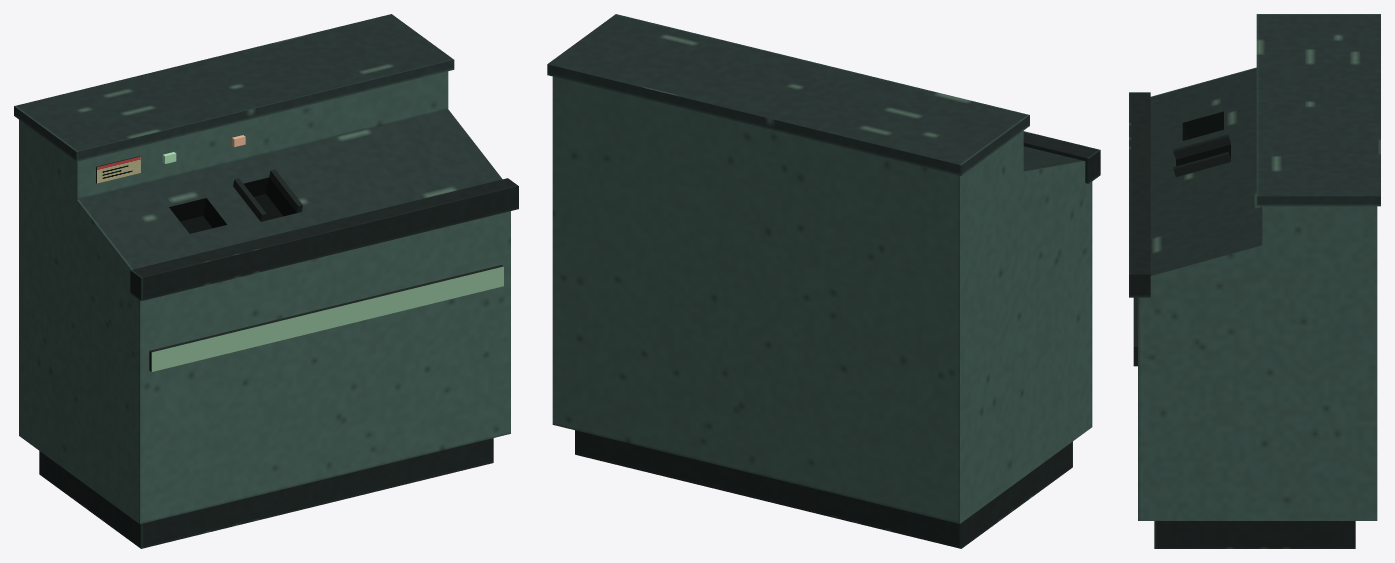
The model's file is SM_LabPanel_Console_Analyzer_120x70x110.fbx.
3 views of the same model, side by side, from view 1: azimuth 30°, elevation 25°; view 2: azimuth 150°, elevation 25°; view 3: azimuth 270°, elevation 25° (orthographic). The views are drawn at different scales.
Visible parts, largest first — view 1: SM_LabPanel_Console_Analyzer_120x70x110.001; view 2: SM_LabPanel_Console_Analyzer_120x70x110.001; view 3: SM_LabPanel_Console_Analyzer_120x70x110.001.
Boxes of the visible parts, box(x1,y1,x2,y2) form: SM_LabPanel_Console_Analyzer_120x70x110.001: box(14, 14, 518, 548); SM_LabPanel_Console_Analyzer_120x70x110.001: box(547, 14, 1100, 548); SM_LabPanel_Console_Analyzer_120x70x110.001: box(1129, 14, 1380, 548).
Size of the model in its own units: 1.2 by 1.1 by 0.7.
